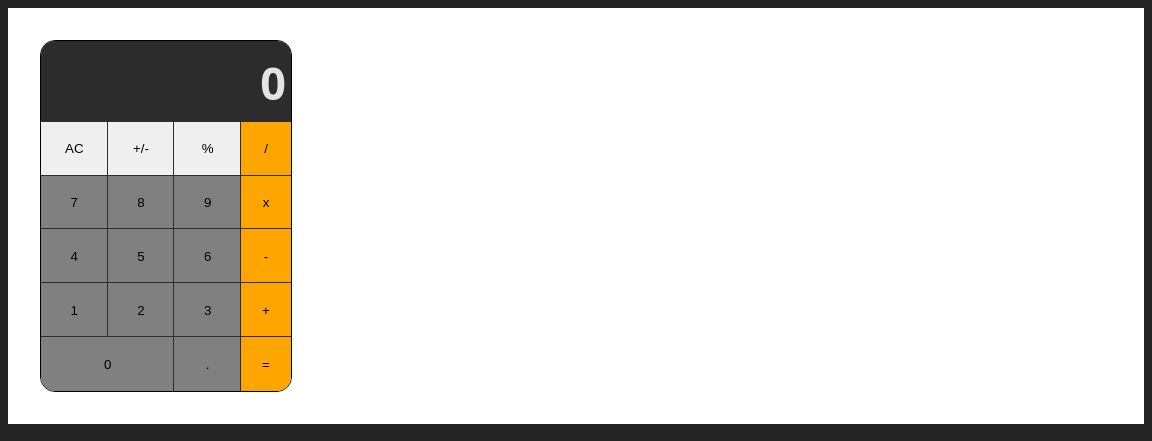
user perform simple calculations › user interacts with addition
Click the button "1" at (74, 310), box x1=41 y1=283 x2=108 y2=337
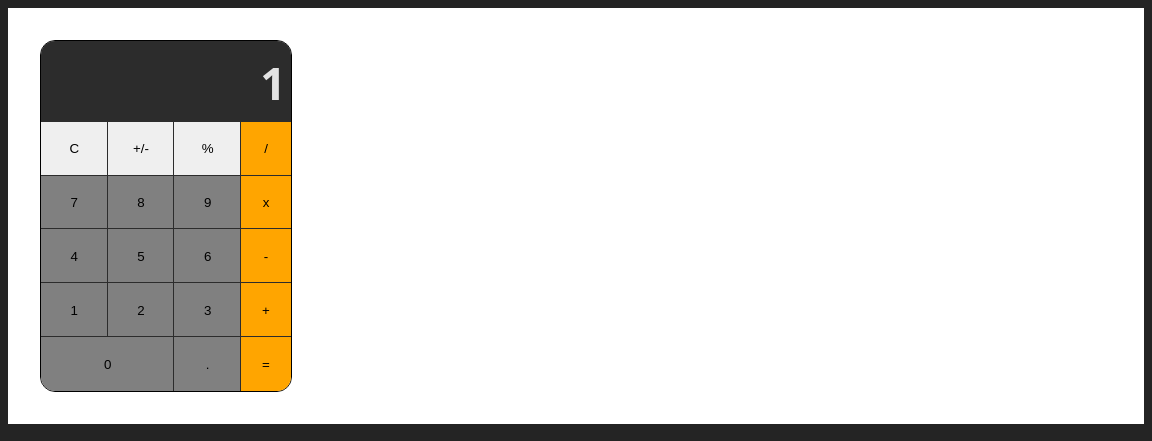
Click the button "2" at (141, 310), box x1=108 y1=283 x2=174 y2=337
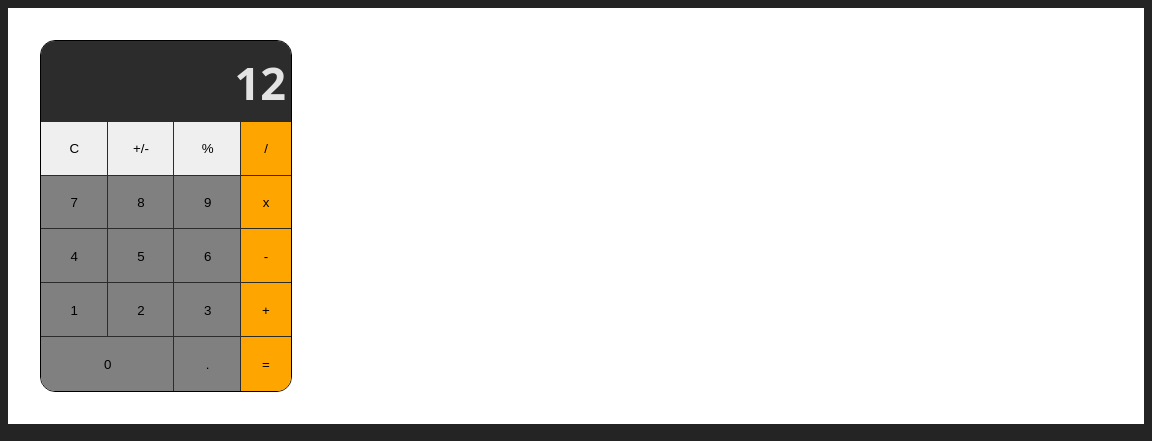
Click the button "+" at (266, 310), box x1=241 y1=283 x2=291 y2=337
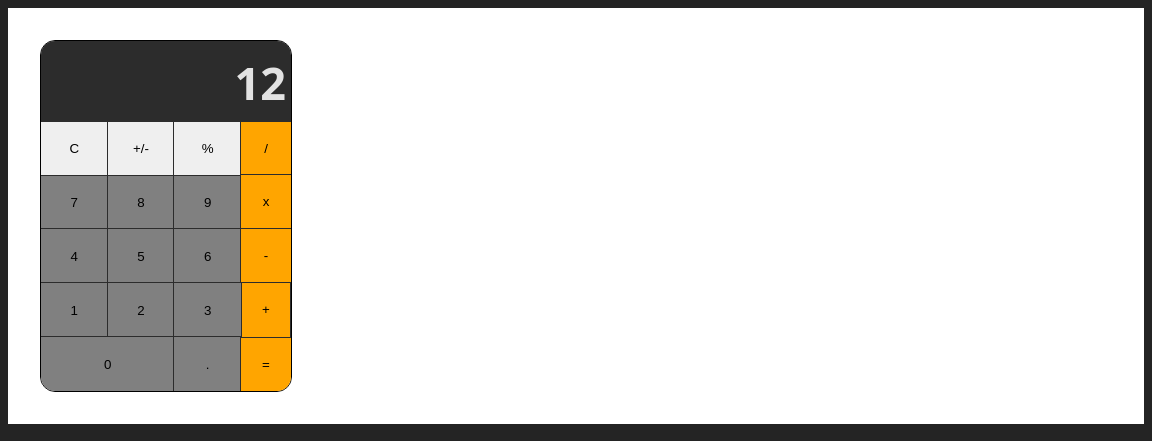
Click the button "6" at (208, 256), box x1=174 y1=230 x2=241 y2=283
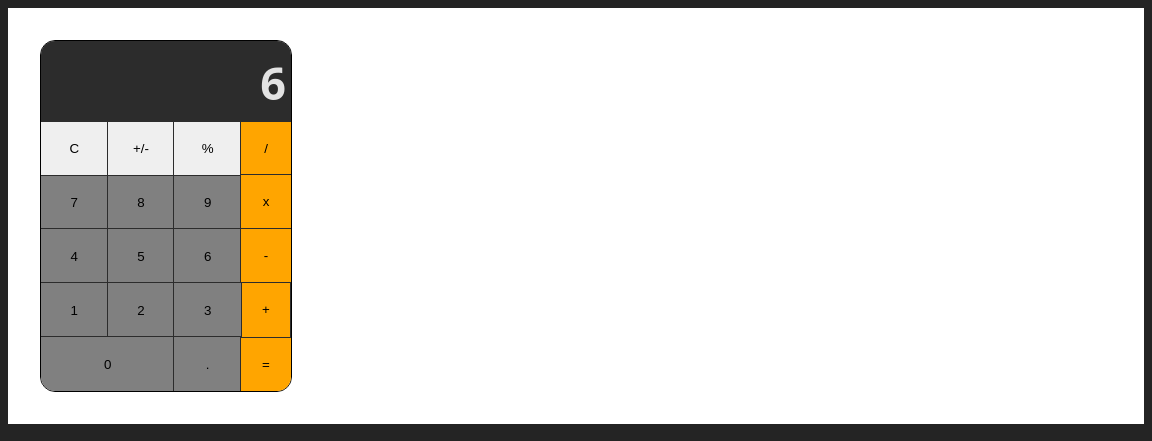
Click the button "=" at (266, 364), box x1=241 y1=338 x2=291 y2=391
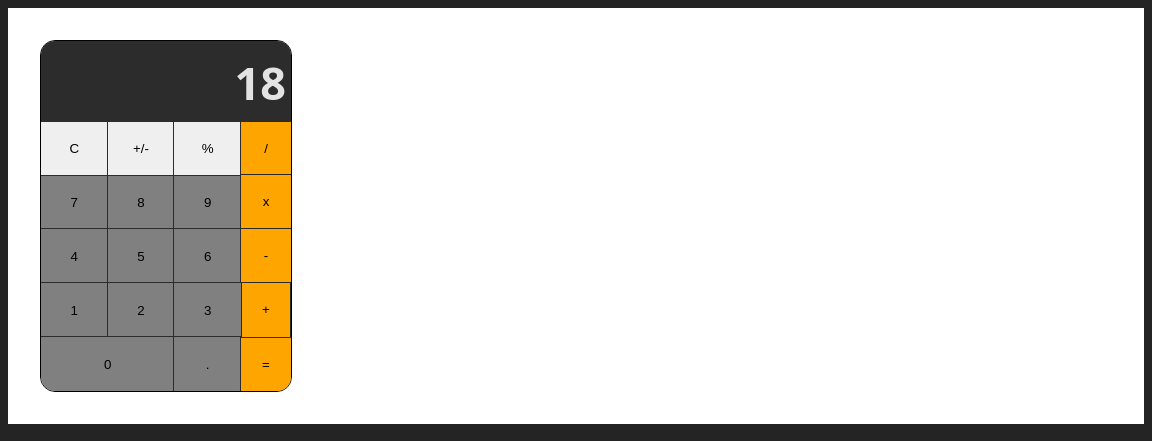
Check: the heading reads "18", box x1=234 y1=52 x2=286 y2=113
